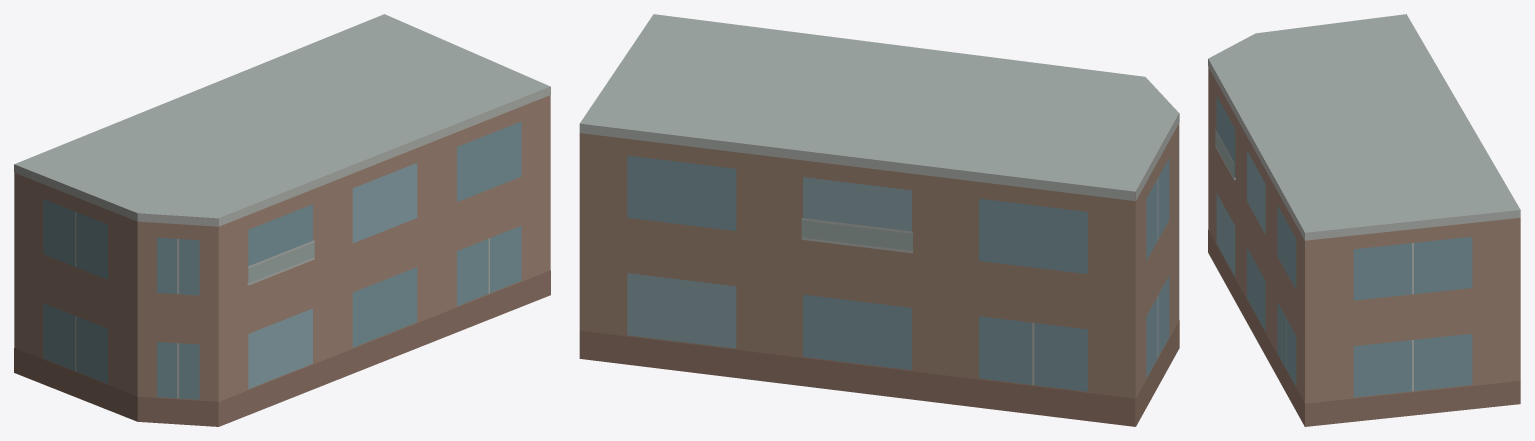
The model's file is survey-upis-32716192.glb.
3 views of the same model, side by side, from view 1: azimuth 30°, elevation 25°; view 2: azimuth 150°, elevation 25°; view 3: azimuth 270°, elevation 25° (orthographic). The views are drawn at different scales.
Parts seen in each view (by area): view 1: survey-upis-32716192.tmp; view 2: survey-upis-32716192.tmp; view 3: survey-upis-32716192.tmp.
Boxes of the visible parts, x1=… form: survey-upis-32716192.tmp: x1=14, y1=14, x2=550, y2=426; survey-upis-32716192.tmp: x1=579, y1=14, x2=1179, y2=426; survey-upis-32716192.tmp: x1=1208, y1=14, x2=1520, y2=426.
Size of the model in its own units: 14.77 by 6.1 by 8.92.
